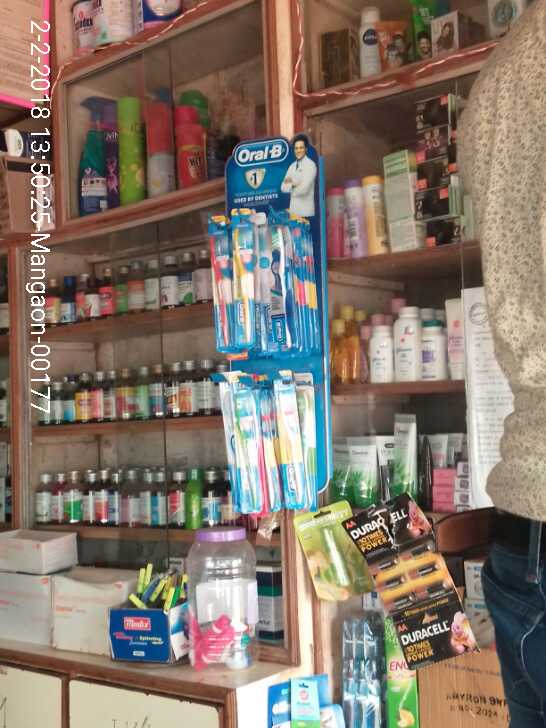oralb: (269, 220, 326, 355), (215, 373, 265, 517), (230, 219, 268, 349), (278, 390, 316, 502), (203, 230, 233, 347)
